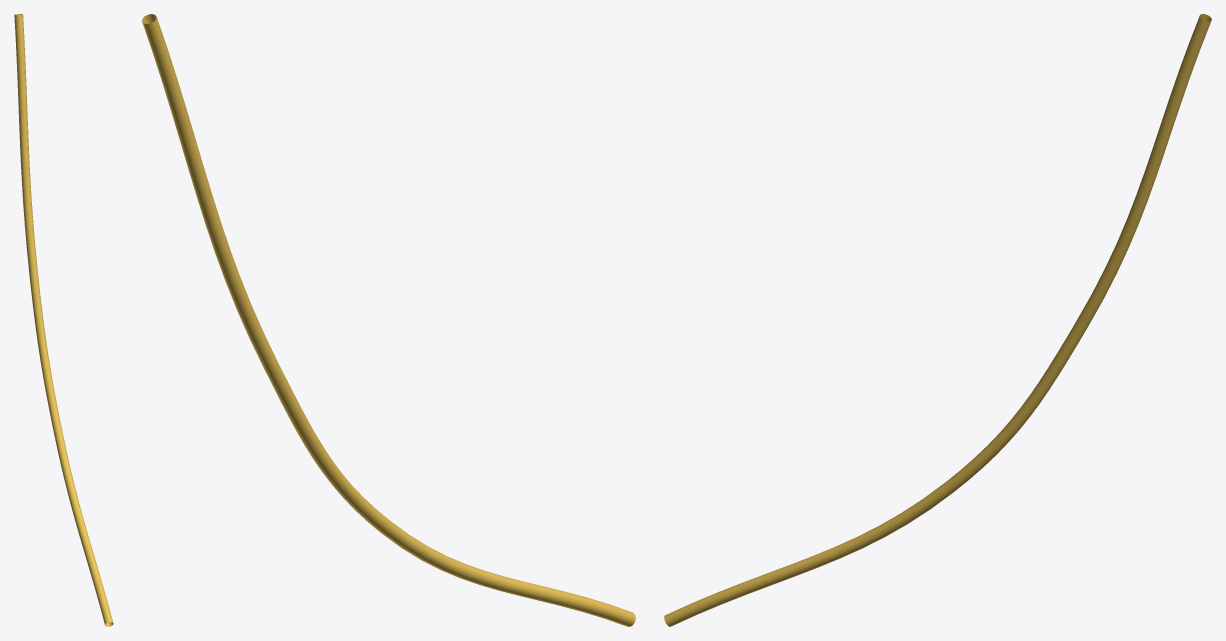
The model's file is Subclavian_nerve_right.glb.
3 views of the same model, side by side, from view 1: azimuth 30°, elevation 25°; view 2: azimuth 150°, elevation 25°; view 3: azimuth 270°, elevation 25° (orthographic). The views are drawn at different scales.
Parts seen in each view (by area): view 1: Subclavian_nerve.r_BezierCurve.456; view 2: Subclavian_nerve.r_BezierCurve.456; view 3: Subclavian_nerve.r_BezierCurve.456.
Boxes of the visible parts, box(x1,y1,x2,y2) form: Subclavian_nerve.r_BezierCurve.456: box(14, 14, 113, 626); Subclavian_nerve.r_BezierCurve.456: box(142, 14, 635, 626); Subclavian_nerve.r_BezierCurve.456: box(664, 14, 1211, 626).
Size of the model in its own units: 0.013 by 0.0574 by 0.0421.
